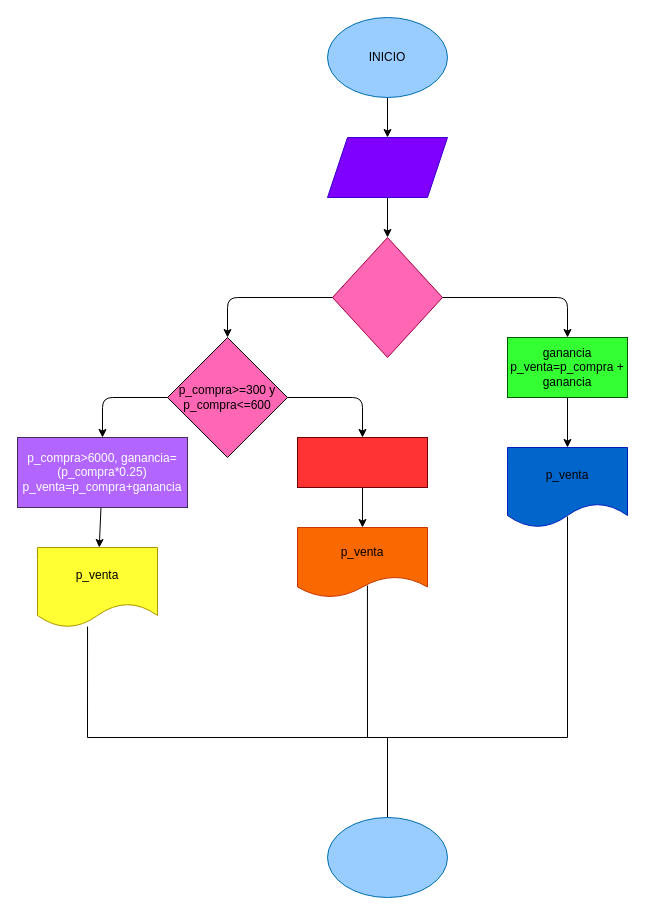
Image size: 645x915. Some labels were removed from this diagram. The centre of each missing label's shape, as x and y in pixels:
"FIN" goes at point 387,857.
"ganancia= p_compra<300" goes at point 387,297.
"ganancia=500 p_venta=p_compra + ganancia" goes at point 362,462.
"p_compra" goes at point 387,167.
